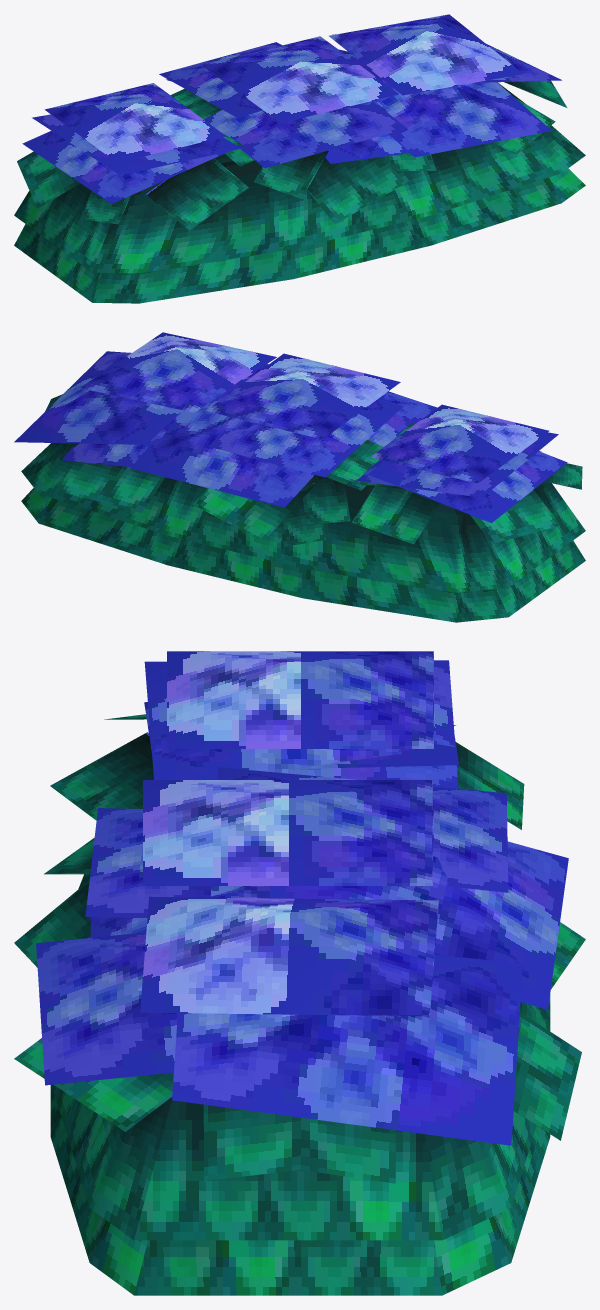
Rendered from rmk_flo_bedS.dae.
The picture shows the model from 3 angles, top to bottom: view 1: azimuth 30°, elevation 25°; view 2: azimuth 150°, elevation 25°; view 3: azimuth 270°, elevation 25°; orthographic projection. The views are drawn at different scales.
Visible parts, largest first — view 1: rmk_flo_bedS; view 2: rmk_flo_bedS; view 3: rmk_flo_bedS.
Boxes of the visible parts, x1=… form: rmk_flo_bedS: x1=14, y1=14, x2=585, y2=303; rmk_flo_bedS: x1=14, y1=332, x2=585, y2=622; rmk_flo_bedS: x1=14, y1=651, x2=585, y2=1295.
Bounding box in the file's own units: 60.68 × 17.17 × 32.
1 material, 1 textured.
